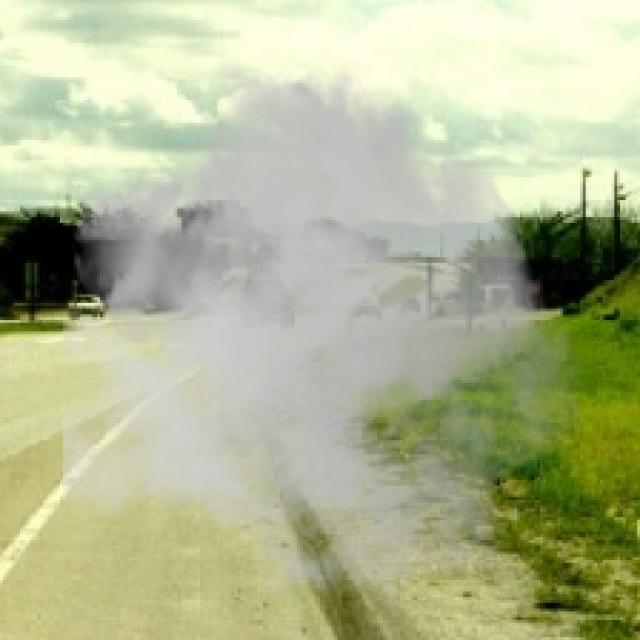smoke: (63, 55, 583, 614)
